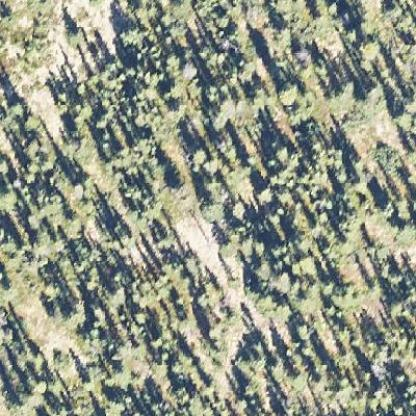tree-top: (57, 296, 85, 330), (354, 32, 380, 61), (66, 97, 92, 126), (388, 211, 415, 238), (294, 252, 322, 278), (274, 79, 300, 106), (164, 174, 190, 198), (182, 144, 208, 168), (291, 318, 316, 341), (64, 22, 86, 45), (18, 111, 40, 134)
